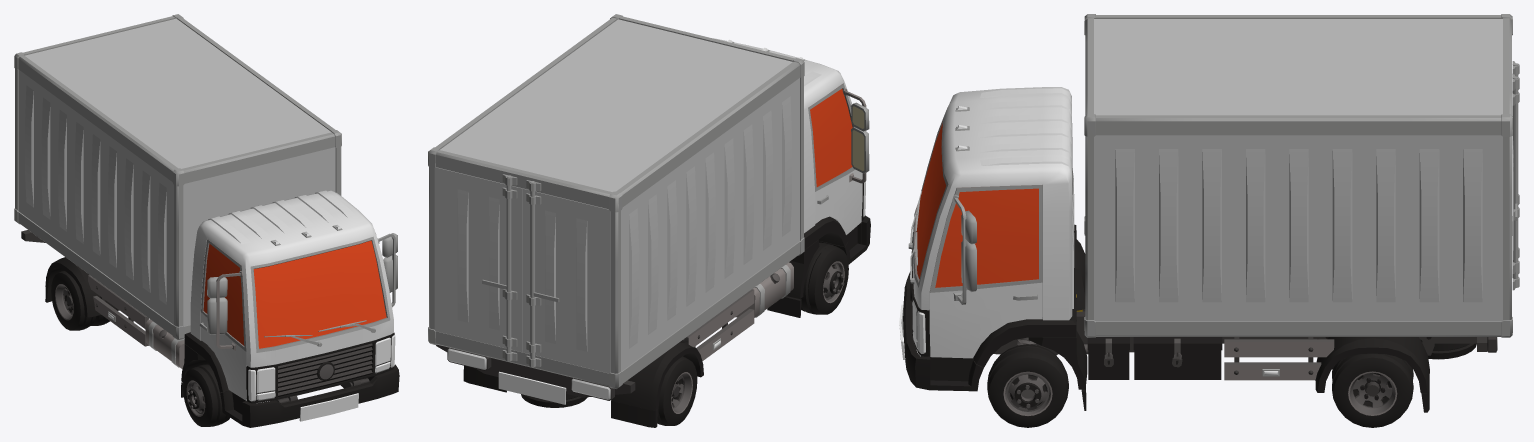
File: car8.fbx
3 views of the same model, side by side, from view 1: azimuth 30°, elevation 25°; view 2: azimuth 150°, elevation 25°; view 3: azimuth 270°, elevation 25° (orthographic). The views are drawn at different scales.
Visible parts, largest first — view 1: Container, Cabin, Doors_FR.005, Grill_F.005, Bumper_F.007, ChassisAsymetry, Body.007, Wheel_FR.007, Wheel_RR.007, Doors_FL.005, Headlight_FR.004, Headlight_FL.004 (+1 smaller); view 2: Container, ContainerDoors_L, ContainerDoors_R, Body.007, Doors_FR.005, Cabin, ChassisAsymetry, Wheel_FR.007, Wheel_RR.007, Lights_RL.004, Lights_RR.004, SpareTire; view 3: Container, Cabin, Doors_FL.005, ChassisAsymetry, Body.007, Wheel_FL.007, Wheel_RL.007, Bumper_F.007, ContainerDoors_L, SpareTire.
Part boxes in pixels (left/top/right/bottom): Container: left=14, top=14, right=341, bottom=339; Cabin: left=184, top=190, right=393, bottom=403; Doors_FR.005: left=199, top=239, right=246, bottom=400; Grill_F.005: left=246, top=332, right=394, bottom=403; Bumper_F.007: left=242, top=364, right=399, bottom=427; ChassisAsymetry: left=88, top=275, right=184, bottom=369; Body.007: left=21, top=230, right=385, bottom=424; Wheel_FR.007: left=183, top=364, right=229, bottom=426; Wheel_RR.007: left=51, top=270, right=109, bottom=330; Doors_FL.005: left=377, top=233, right=397, bottom=307; Headlight_FR.004: left=256, top=367, right=275, bottom=400; Headlight_FL.004: left=375, top=337, right=391, bottom=373; Container: left=428, top=14, right=804, bottom=388; ContainerDoors_L: left=434, top=167, right=522, bottom=353; ContainerDoors_R: left=522, top=181, right=610, bottom=373; Body.007: left=436, top=222, right=866, bottom=427; Doors_FR.005: left=808, top=83, right=869, bottom=234; Cabin: left=713, top=38, right=852, bottom=249; ChassisAsymetry: left=681, top=262, right=793, bottom=360; Wheel_FR.007: left=800, top=242, right=848, bottom=314; Wheel_RR.007: left=657, top=356, right=697, bottom=425; Lights_RL.004: left=447, top=347, right=491, bottom=370; Lights_RR.004: left=571, top=378, right=614, bottom=400; SpareTire: left=521, top=394, right=587, bottom=407; Container: left=1084, top=14, right=1519, bottom=337; Cabin: left=912, top=87, right=1085, bottom=367; Doors_FL.005: left=929, top=185, right=1042, bottom=358; ChassisAsymetry: left=1087, top=337, right=1334, bottom=380; Body.007: left=930, top=311, right=1487, bottom=412; Wheel_FL.007: left=987, top=344, right=1068, bottom=427; Wheel_RL.007: left=1332, top=353, right=1413, bottom=427; Bumper_F.007: left=899, top=271, right=930, bottom=390; ContainerDoors_L: left=1512, top=76, right=1519, bottom=278; SpareTire: left=1428, top=343, right=1476, bottom=359.
Size of the model in its own units: 131 by 156 by 282.
